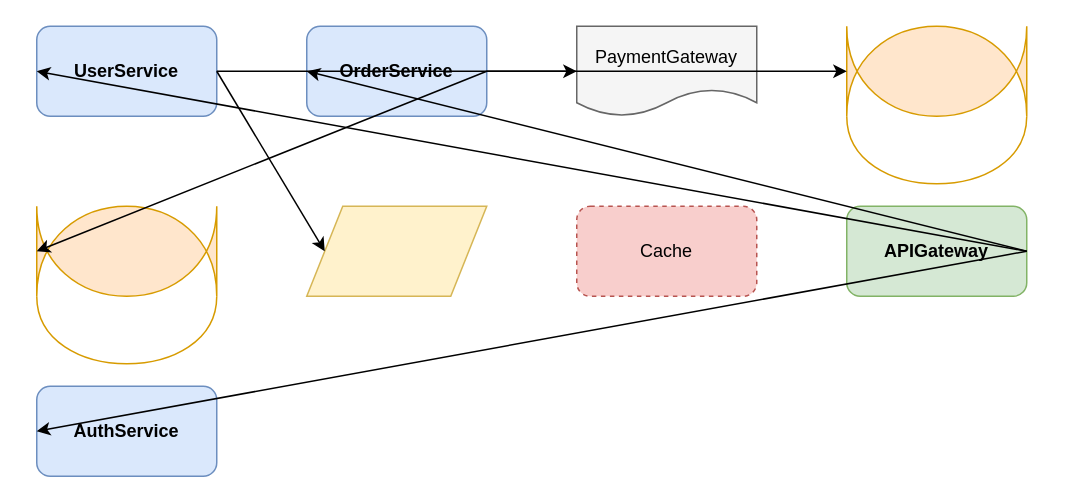
Some shapes in this 1065 by 503 pixel diagram are drawn without their labels. The box of each missing label's shape, as (x1, y1, x2, y2) in pixels:
MessageQueue: (305, 205, 487, 296)
OrderDatabase: (35, 205, 217, 296)
UserDatabase: (845, 25, 1027, 116)
